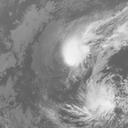cyclone: (60, 29, 93, 69), (82, 84, 115, 118)
